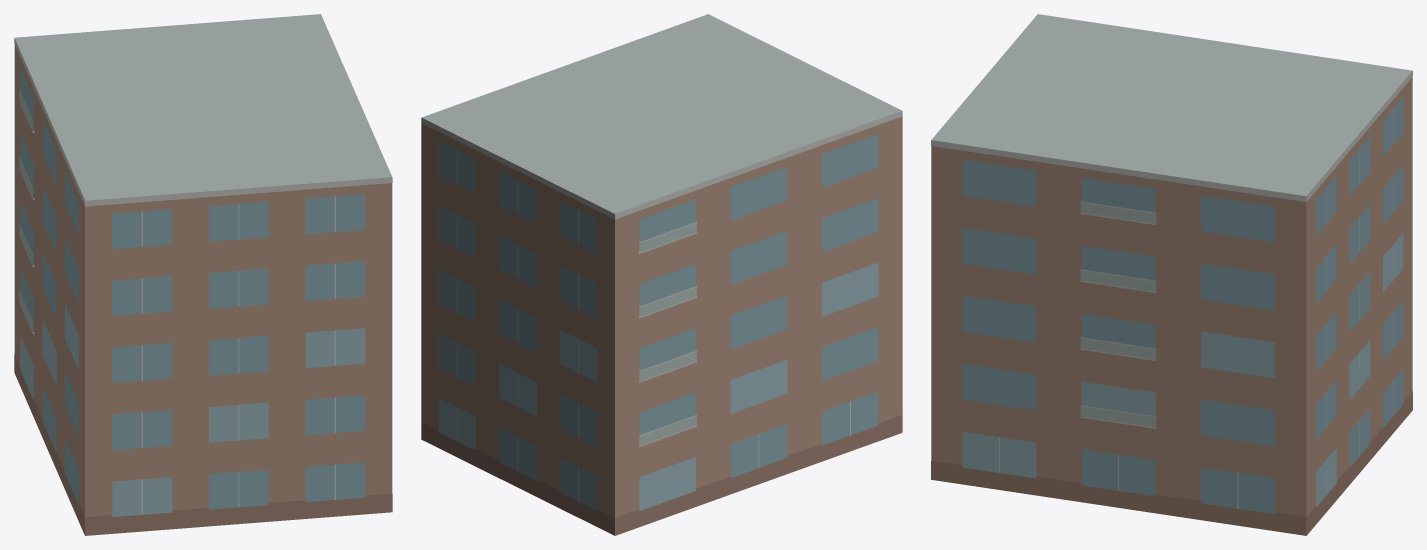
The model's file is survey-upis-33035994.glb.
3 renders of one model, left to right at view 1: azimuth 30°, elevation 25°; view 2: azimuth 150°, elevation 25°; view 3: azimuth 270°, elevation 25°, orthographic. The views are drawn at different scales.
Visible parts, largest first — view 1: survey-upis-33035994.tmp; view 2: survey-upis-33035994.tmp; view 3: survey-upis-33035994.tmp.
Boxes of the visible parts, x1,y1,x2,y2 form: survey-upis-33035994.tmp: (14,14,392,535); survey-upis-33035994.tmp: (421,14,902,535); survey-upis-33035994.tmp: (931,14,1412,535).
Size of the model in its own units: 16.35 by 14.2 by 18.26.
